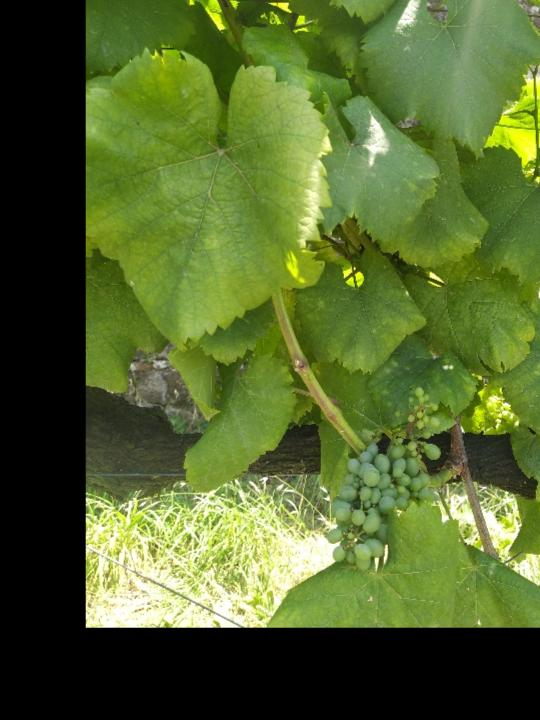grape: (325, 436, 438, 574)
